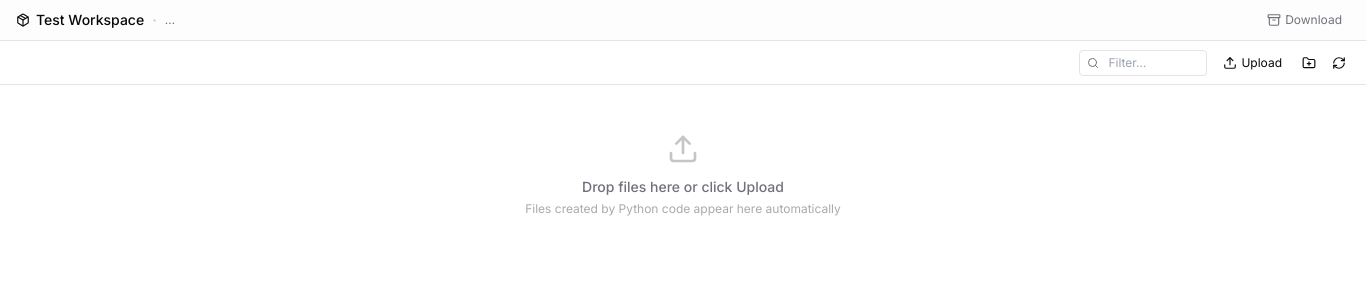
Test: WorkspacePage › Workspace Manager Panel › opens manager panel when workspace name is clicked
Click the button with aria-label "Manage workspaces".
click(80, 20)  # box [16, 10, 144, 30]
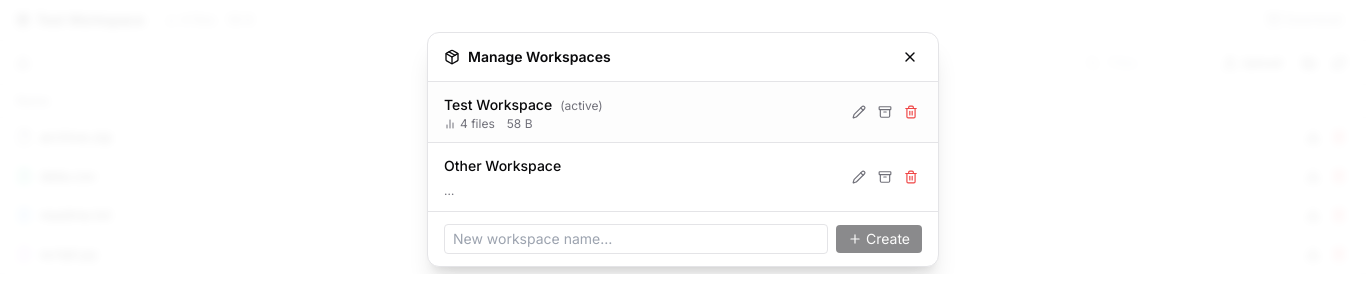
Check: the text "Manage Workspaces" is shown, box [444, 47, 611, 67]
Check: the button "Other Workspace" is shown, box [444, 156, 840, 176]
